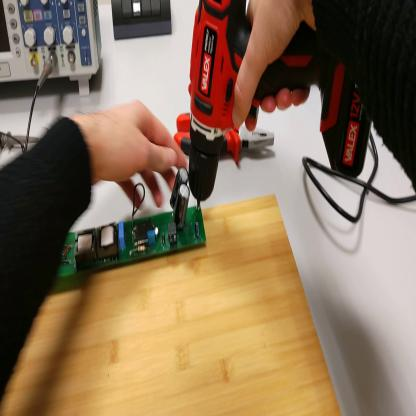electric screwdriver: (187, 3, 375, 211)
hand: (85, 101, 189, 209), (231, 2, 315, 132)
high voltage board: (54, 181, 210, 279)
oscilloscope: (2, 2, 104, 102)
pliers: (175, 115, 275, 167)
working area: (1, 198, 341, 415)
